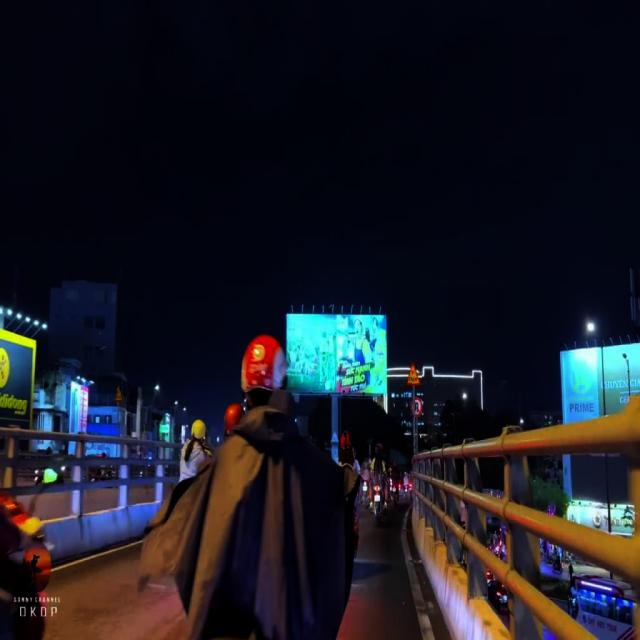cam_quay_dau_xe: (410, 398, 422, 417)
di_cham: (406, 360, 422, 385), (114, 385, 122, 401)
